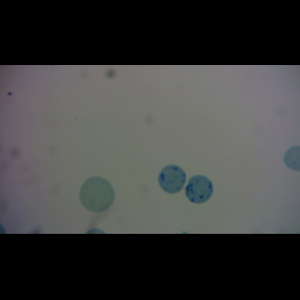aggregate reticulocyte: (184, 174, 214, 205), (158, 164, 187, 194)
punctate reticulocyte: (78, 175, 116, 214)
